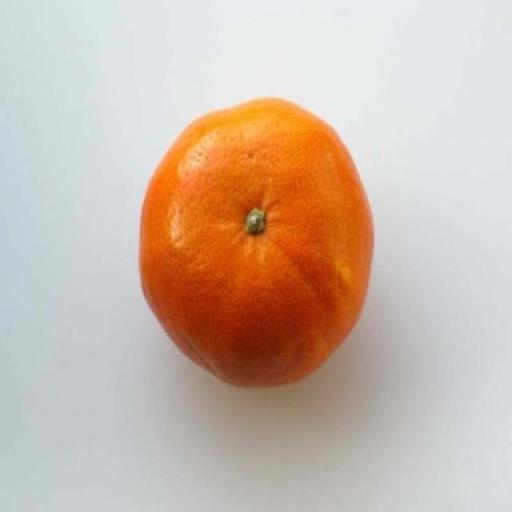fruit: (140, 100, 371, 385)
